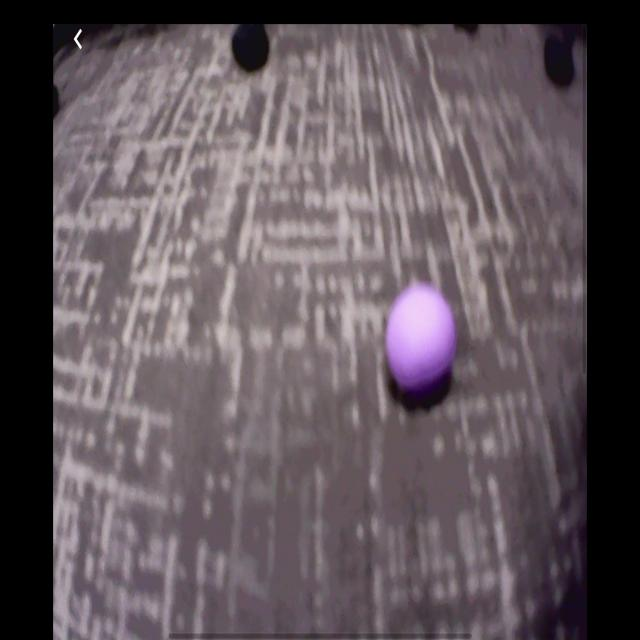ball: (385, 282, 458, 396)
